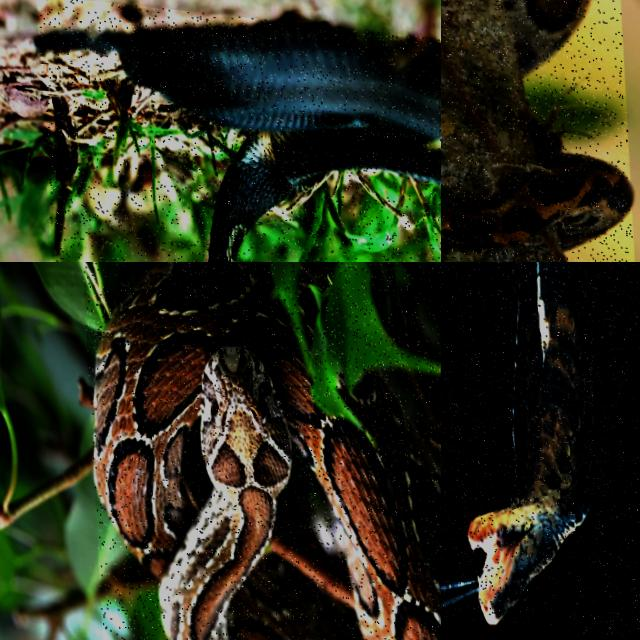Daboia siamensis: (93, 262, 440, 639)
Naja kaouthia: (39, 23, 440, 261)
Naja siamensis: (468, 262, 596, 624)
Python bivittatus: (441, 156, 631, 246)
snake: (93, 262, 440, 639), (39, 23, 440, 261), (468, 262, 596, 624), (441, 156, 631, 246)
